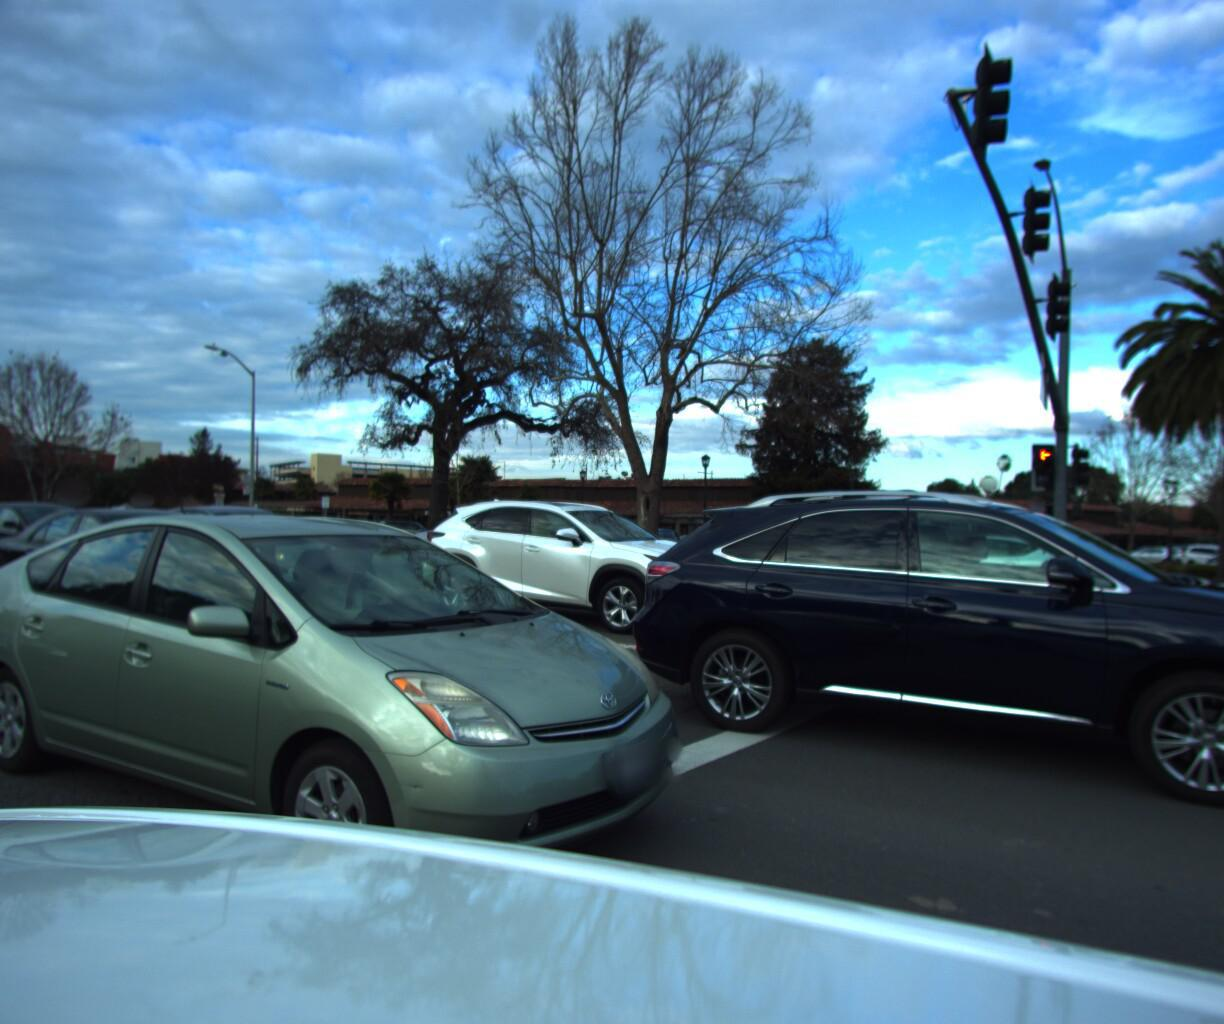car: (0, 508, 745, 992), (627, 476, 1224, 845), (401, 489, 755, 647), (0, 506, 314, 653), (112, 494, 368, 605), (395, 496, 633, 594), (0, 496, 134, 576), (235, 514, 362, 560), (62, 501, 161, 545)
